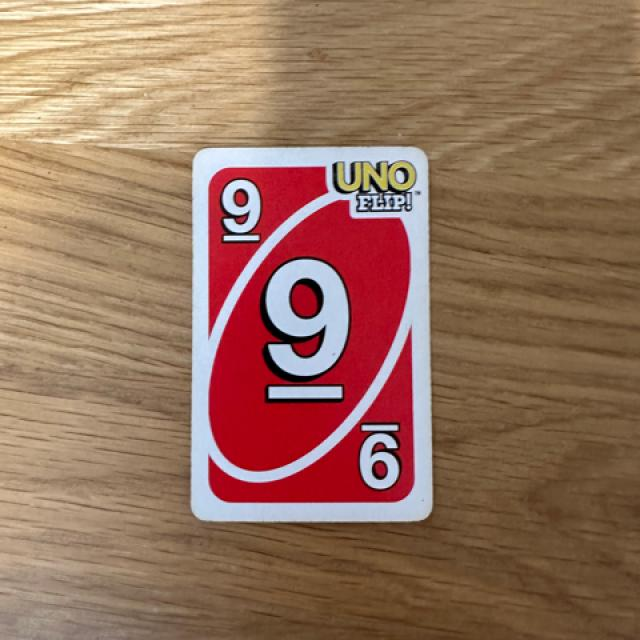lred-9: (204, 160, 266, 251)
